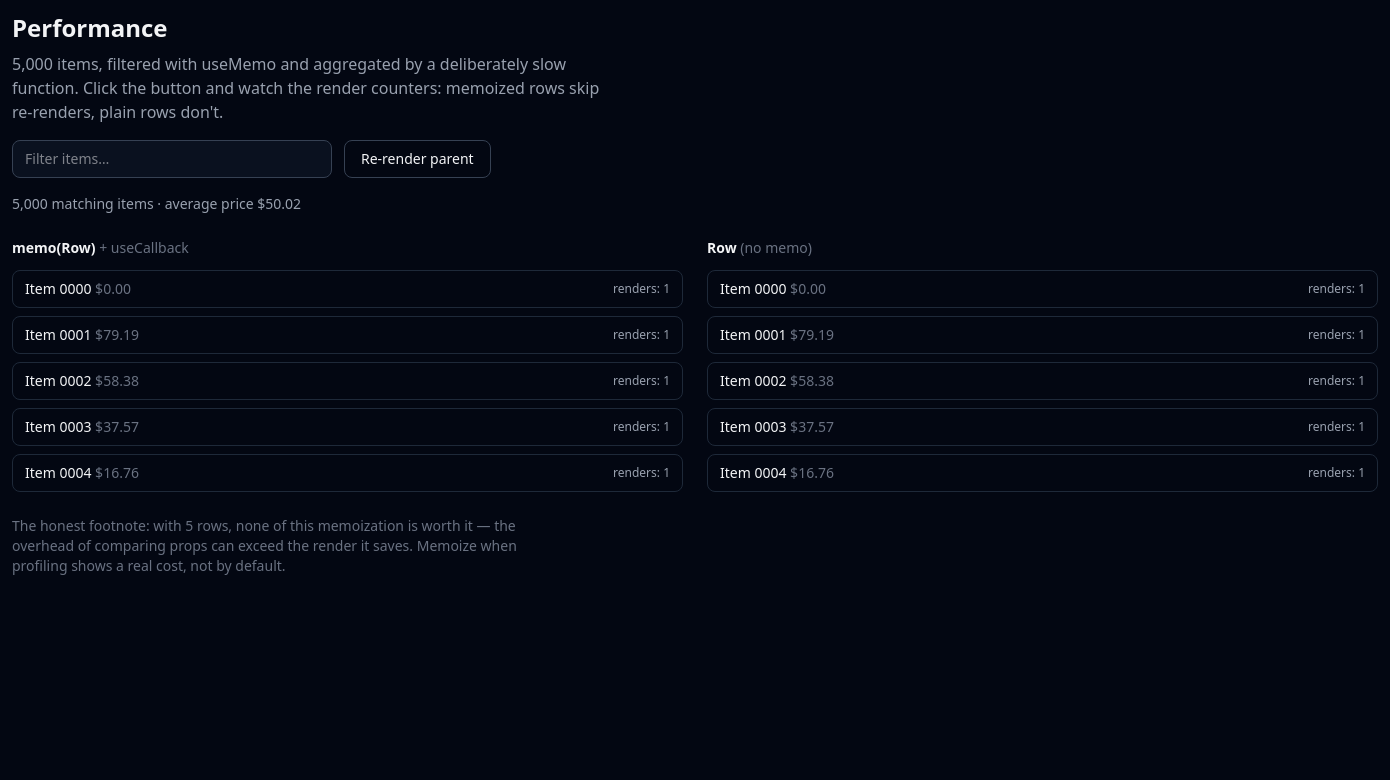
<PerformancePage /> › memoized rows skip parent re-renders, plain rows do not
Expected: the list item "Item 0000 $0.00 renders: 1" below "memo(Row)" is shown, top-left (12, 270), bottom-right (683, 308)
Expected: the list item "Item 0000 $0.00 renders: 1" below "(no memo)" is shown, top-left (707, 270), bottom-right (1378, 308)
Click the button "Re-render parent".
click(417, 159)  # box top-left (344, 140), bottom-right (491, 178)
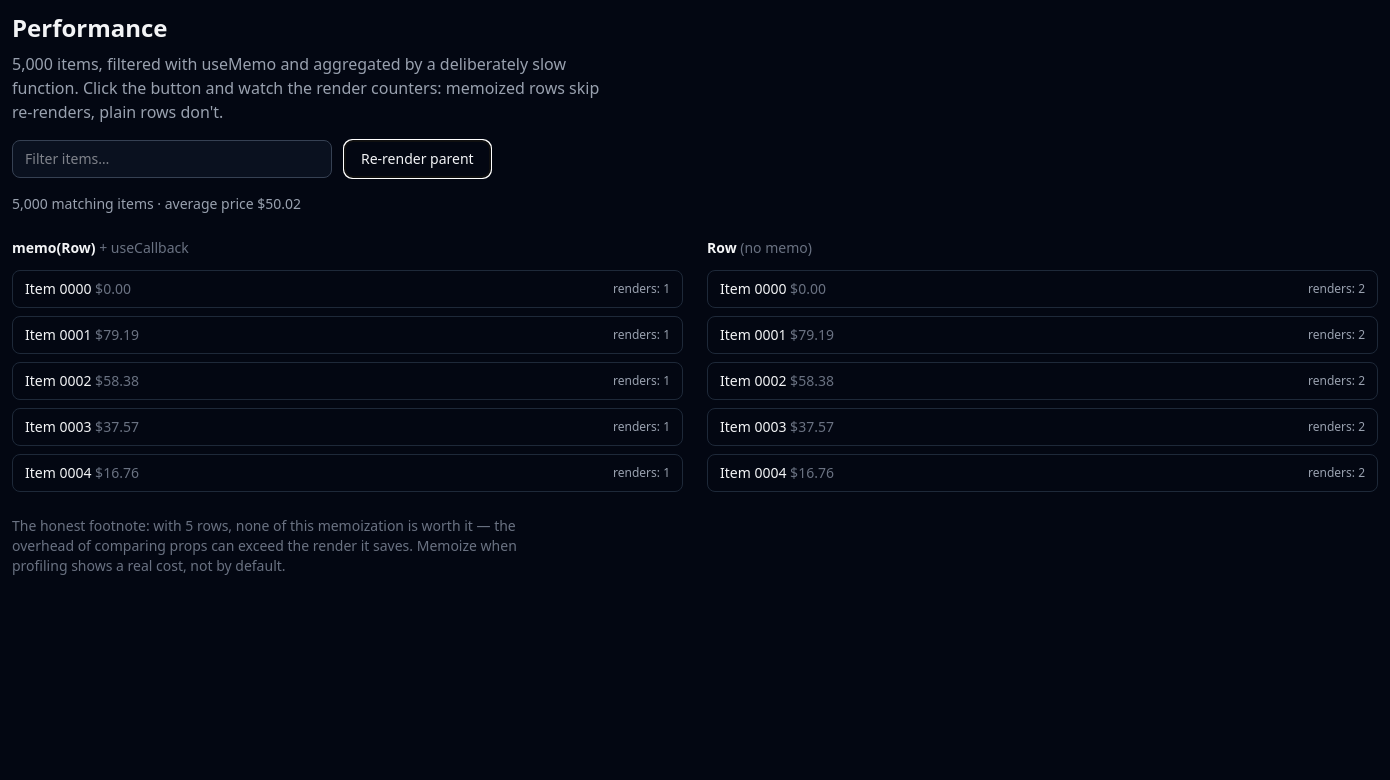
Click the button "Re-render parent".
click(417, 159)  # box top-left (344, 140), bottom-right (491, 178)
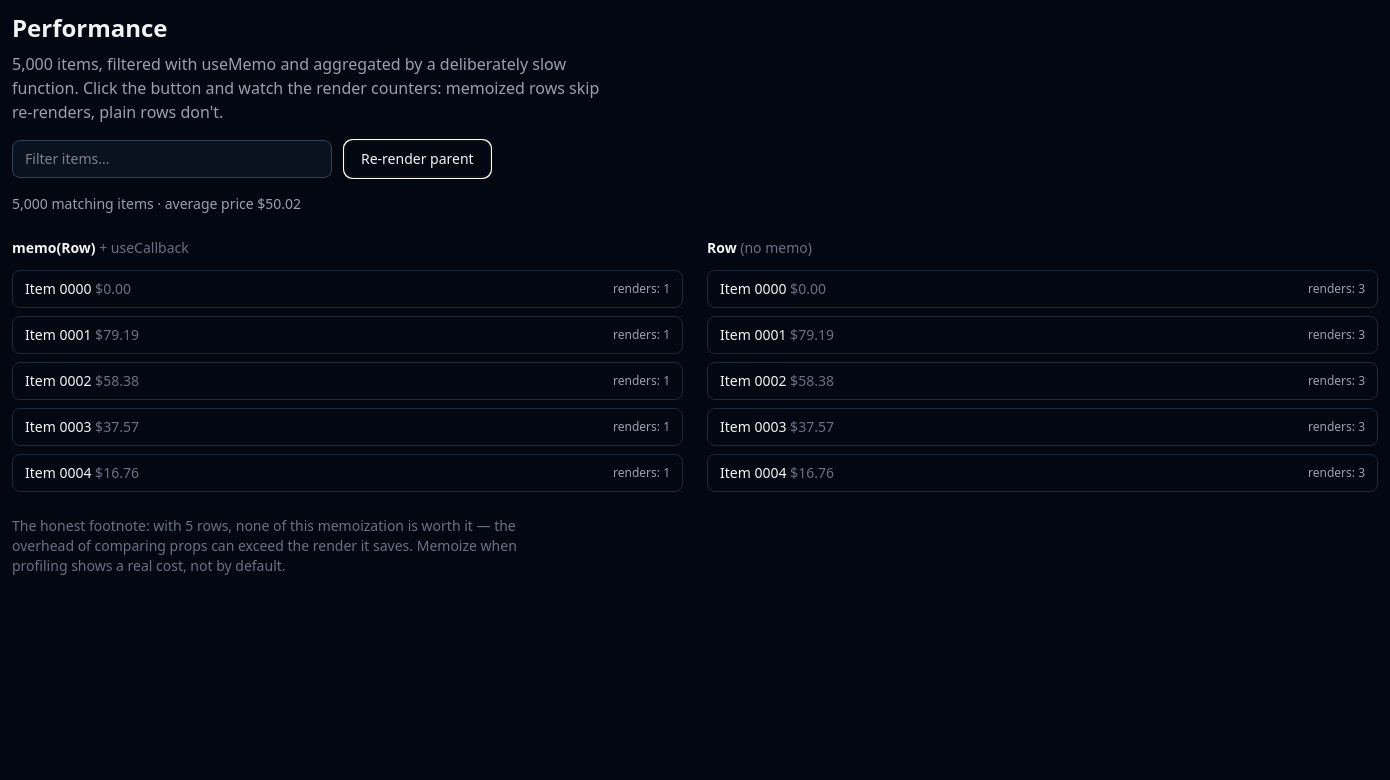
Click the button "Re-render parent".
click(417, 159)  # box top-left (344, 140), bottom-right (491, 178)
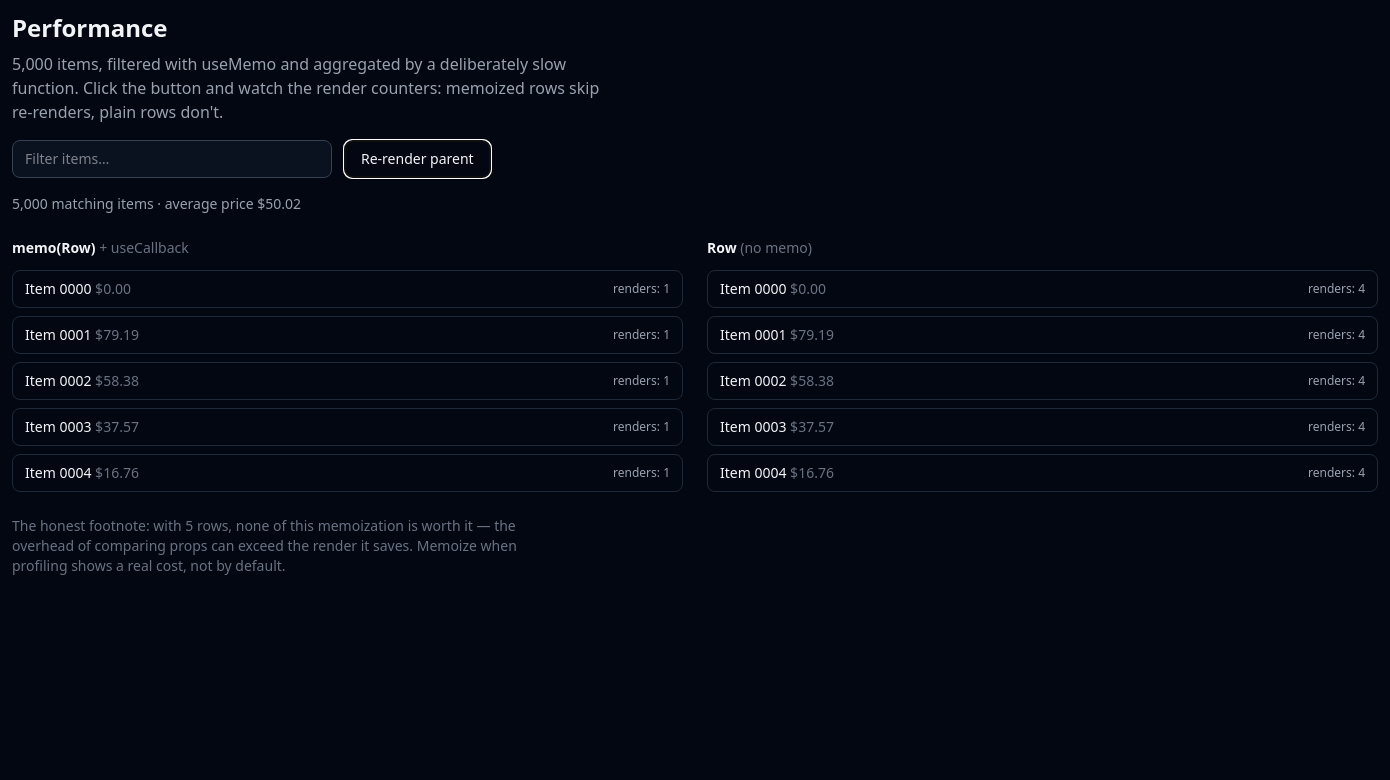
Expected: the list item "Item 0000 $0.00 renders: 1" is shown, top-left (12, 270), bottom-right (683, 308)
Result: the list item "Item 0000 $0.00 renders: 4" is shown at top-left (707, 270), bottom-right (1378, 308)
